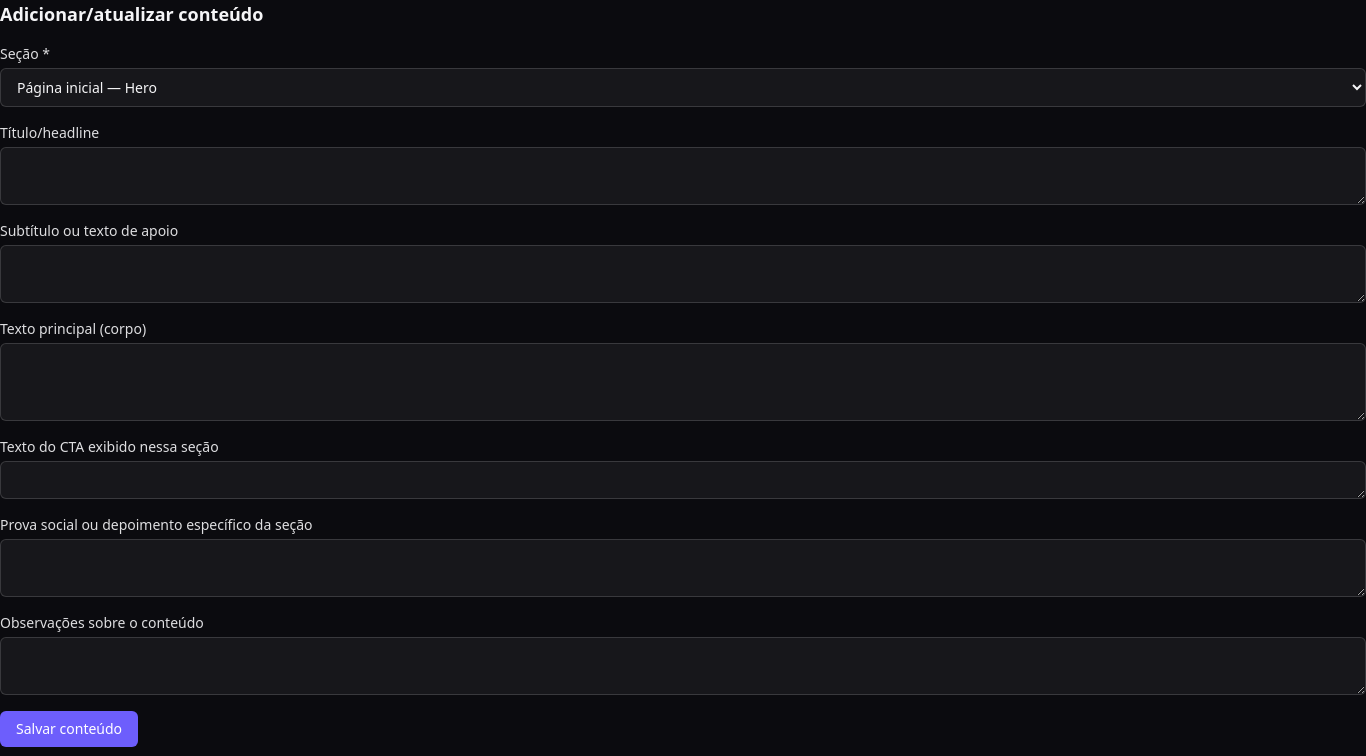
Scenario: SectionCopyForm › shows validation errors returned by the action
This screenshot has width=1366, height=756.
Click the button "Salvar conteúdo".
click(69, 729)  # box [0, 711, 138, 747]
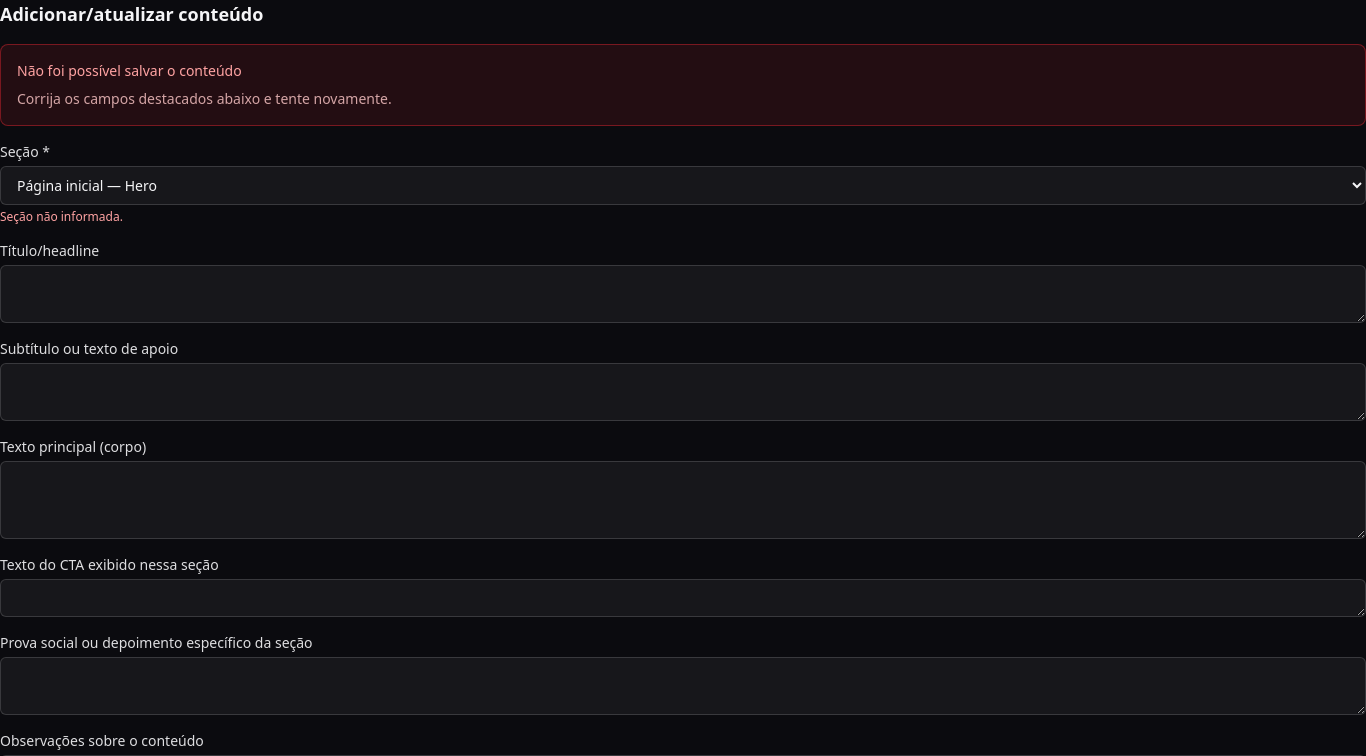
expect the message shows "Não foi possível salvar o conteúdo": met, box [17, 61, 242, 80]
